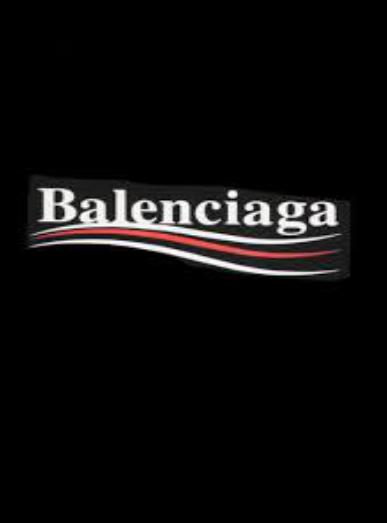BALENCIAGA: (34, 183, 350, 278)
